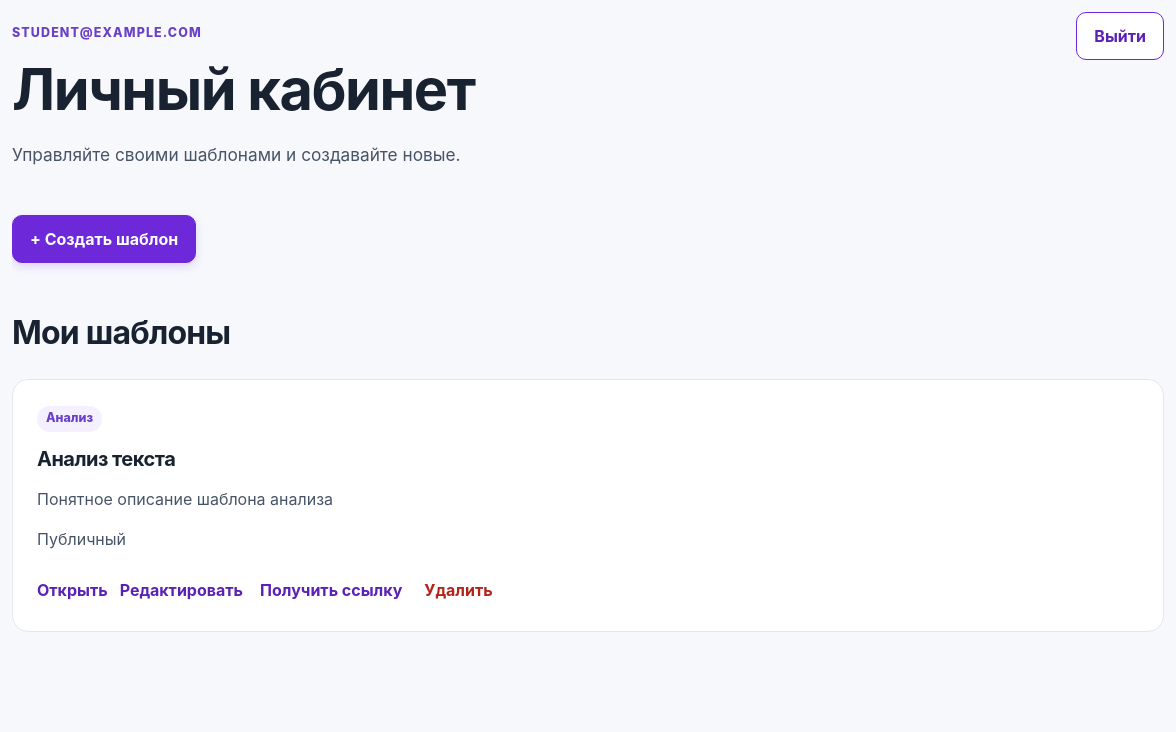
Test: страницы › показывает ошибку удаления, сохраняя карточку
Check: the heading "Анализ текста" is shown, box [37, 447, 175, 471]
Click the button "Удалить" at coordinates (458, 590), box [419, 573, 498, 607]
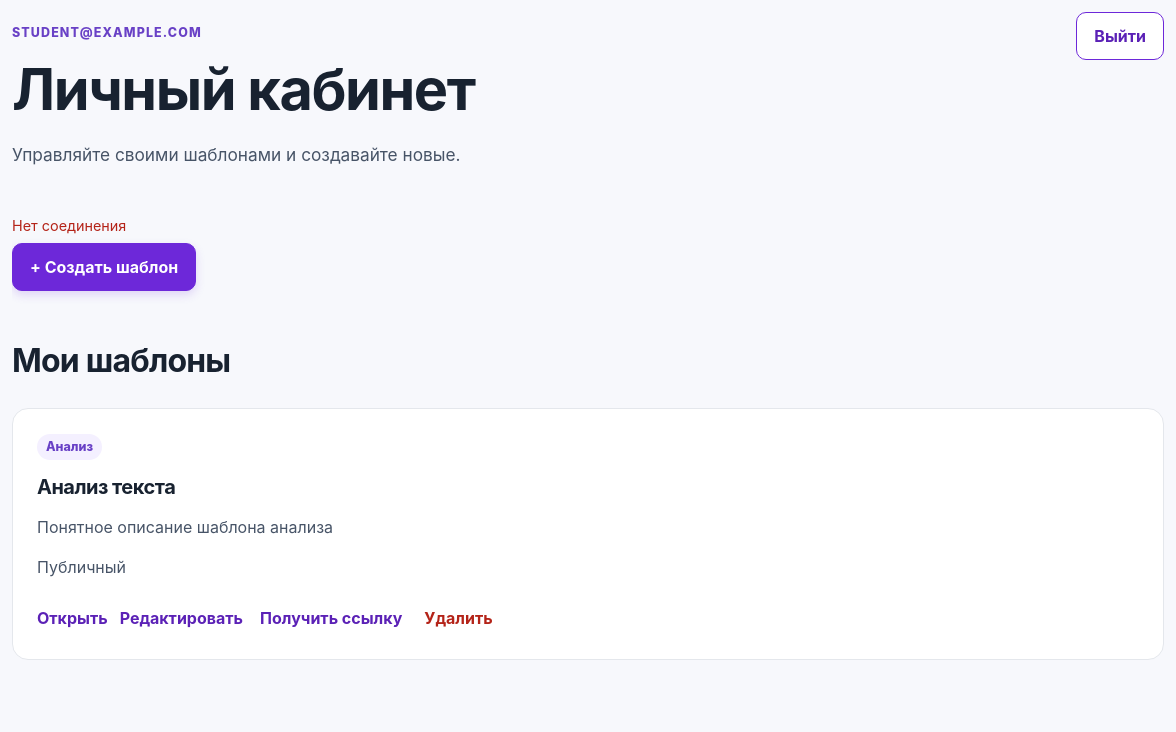
Check: the heading "Анализ текста" is shown, box [37, 475, 175, 499]
Check: the message reads "Нет соединения", box [12, 216, 126, 234]
